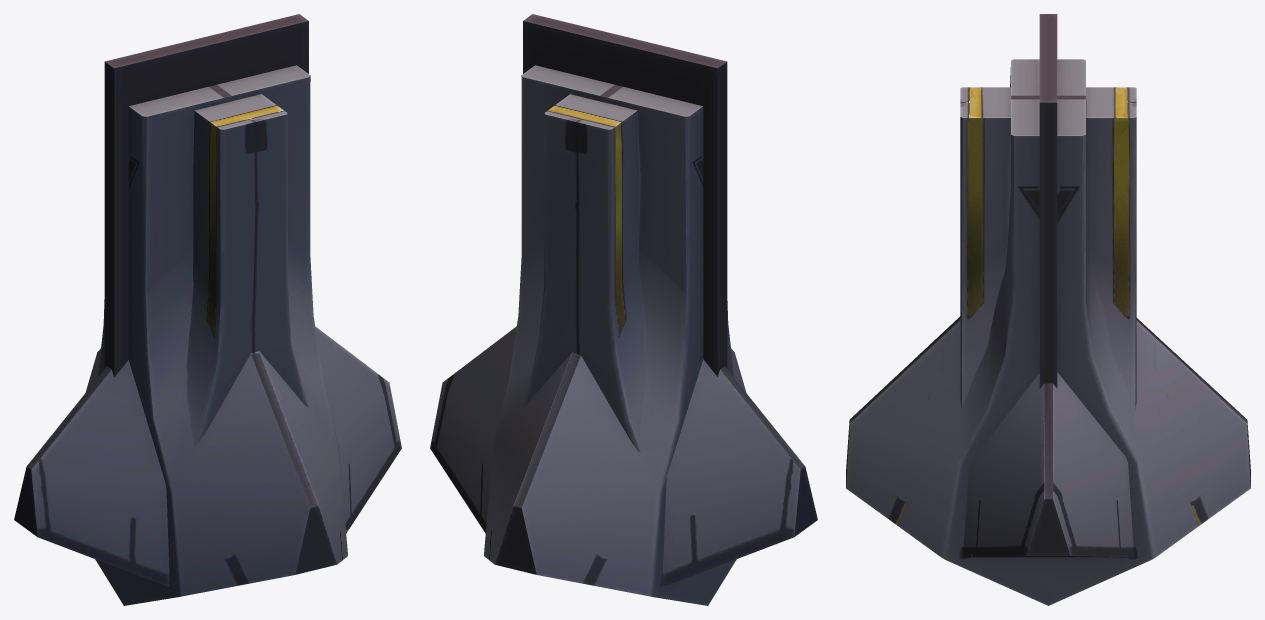
The picture shows the model from 3 angles, left to right: view 1: azimuth 30°, elevation 25°; view 2: azimuth 150°, elevation 25°; view 3: azimuth 270°, elevation 25°; orthographic projection. The views are drawn at different scales.
Visible parts, largest first — view 1: s_mgcity_tower; view 2: s_mgcity_tower; view 3: s_mgcity_tower.
Boxes of the visible parts, <box> form: s_mgcity_tower: <box>14,14,401,605</box>; s_mgcity_tower: <box>430,14,817,605</box>; s_mgcity_tower: <box>846,14,1250,605</box>.
Bounding box in the file's own units: 1.49 × 2.13 × 1.54.
1 material, 1 textured.
